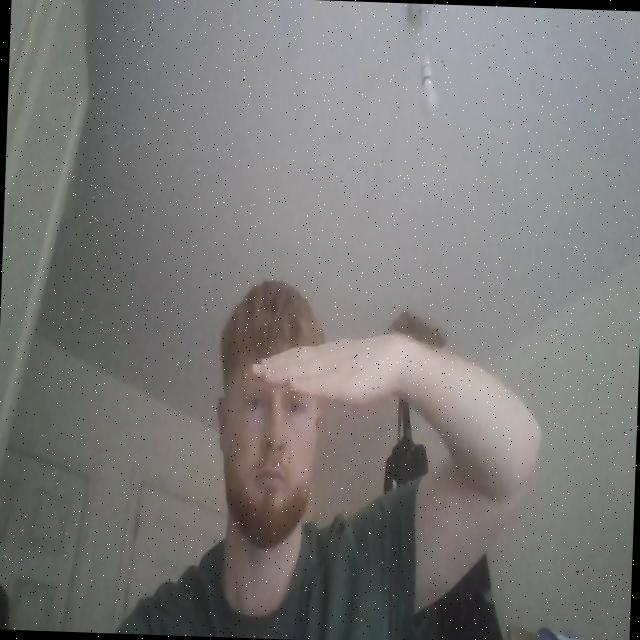papper: (247, 324, 422, 410)
